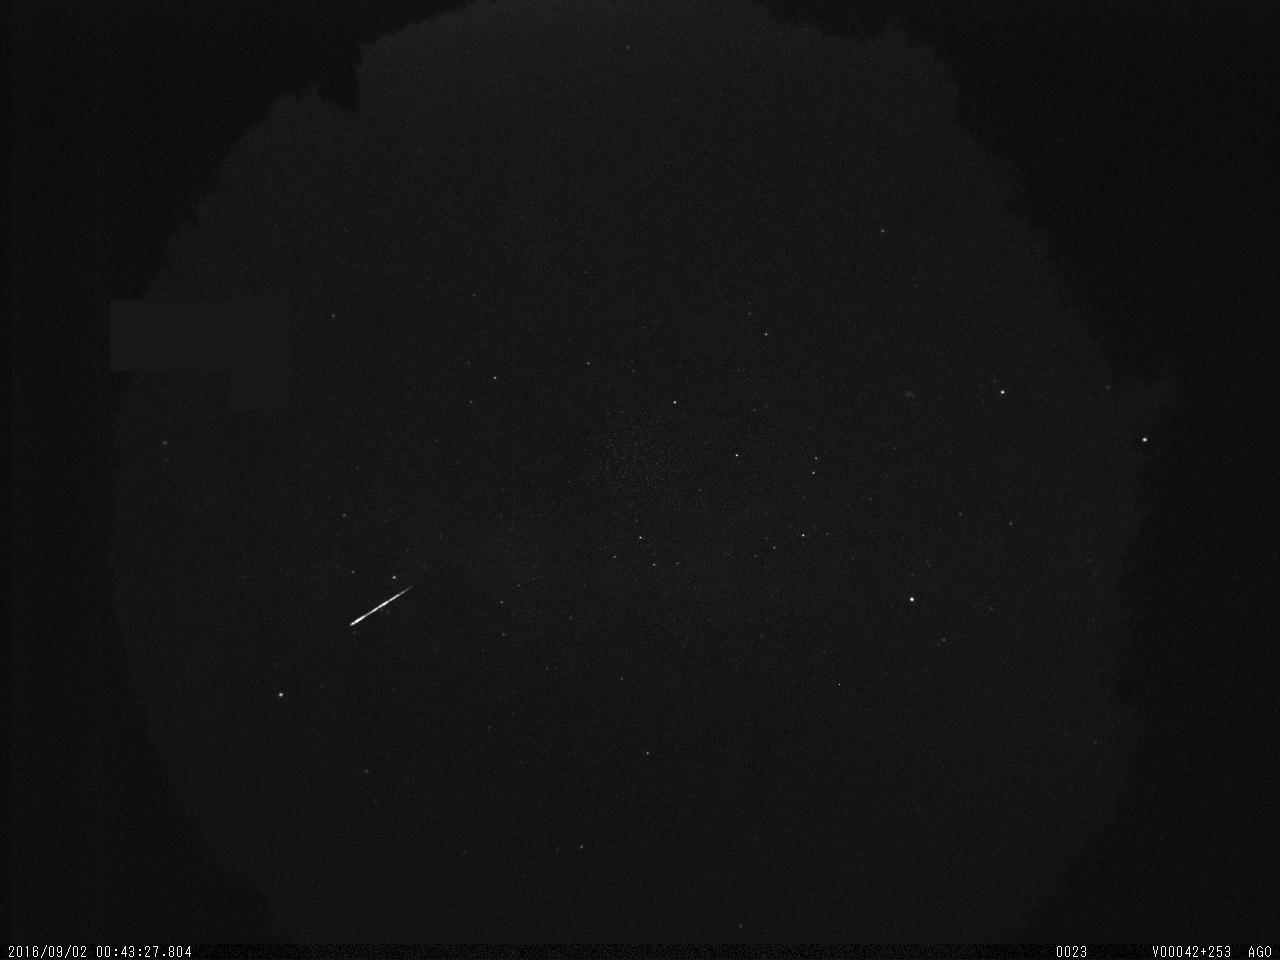meteor: (340, 571, 421, 641)
